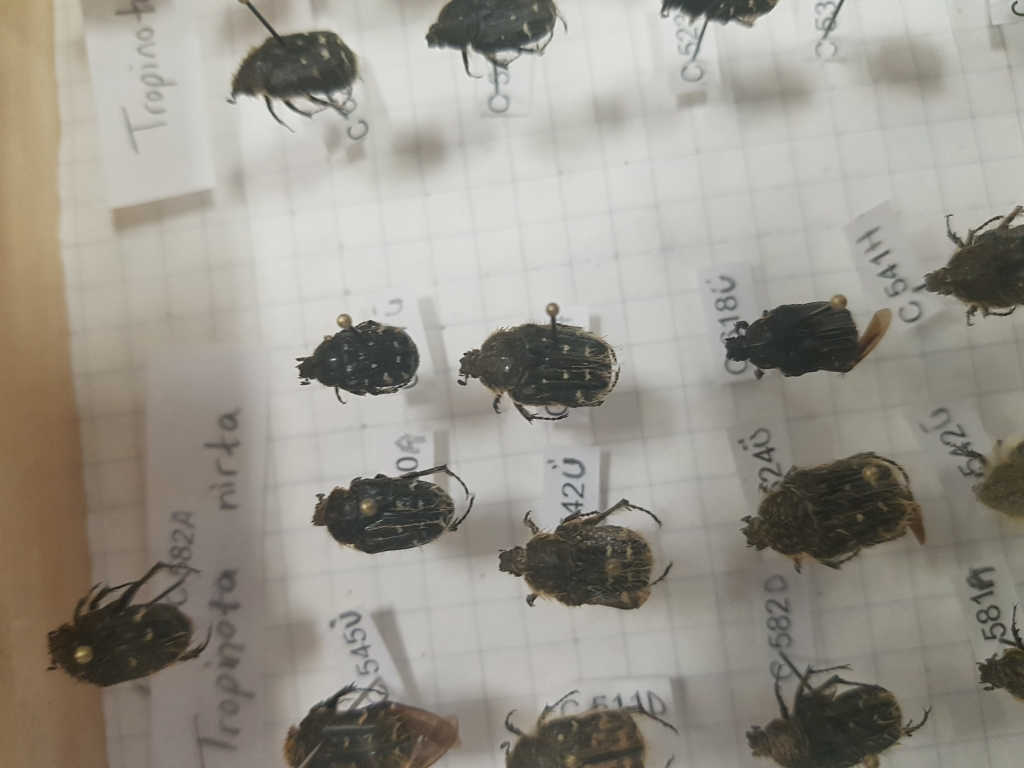Tropinota_hirta: (742, 425, 942, 580), (457, 311, 645, 426)
